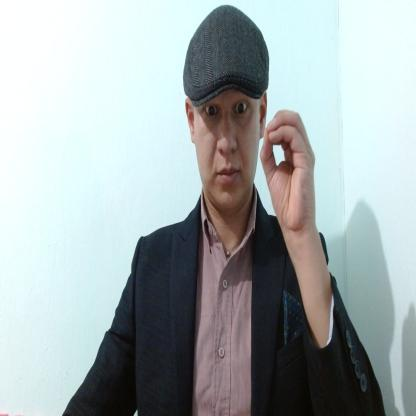O: (259, 107, 317, 237)
